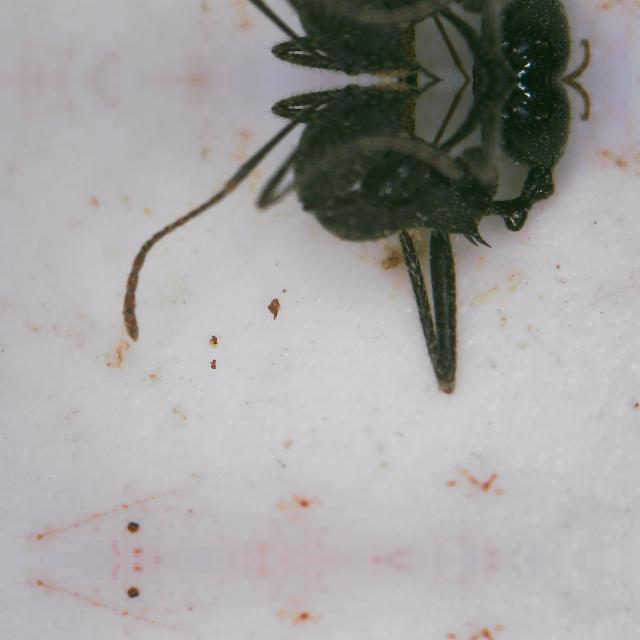Apheanogaster: (127, 80, 639, 350), (127, 0, 639, 80)
